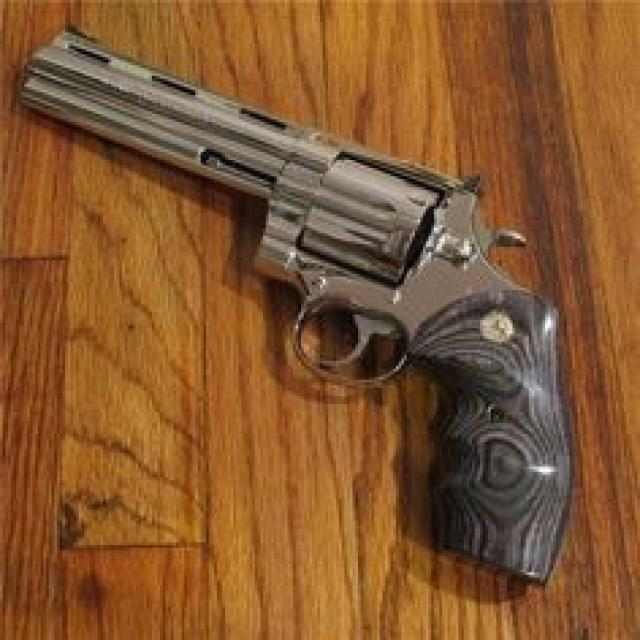revolver: (6, 11, 608, 604)
